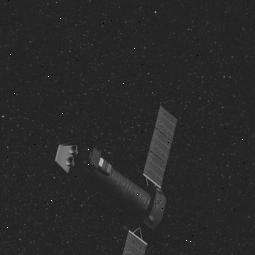xmm_newton: (60, 111, 176, 255)
